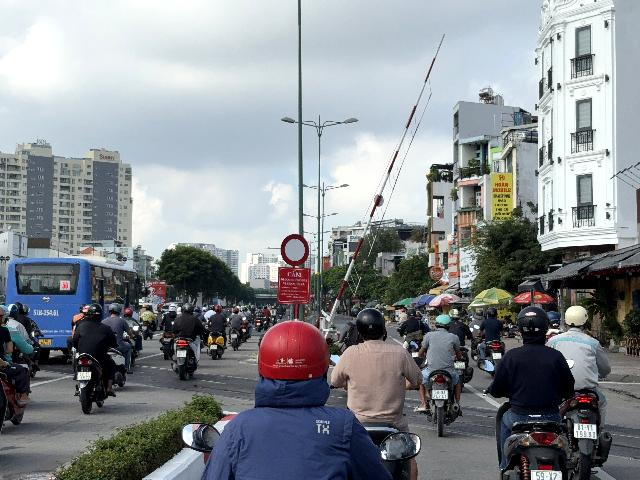duong-cam: (281, 234, 309, 267)
